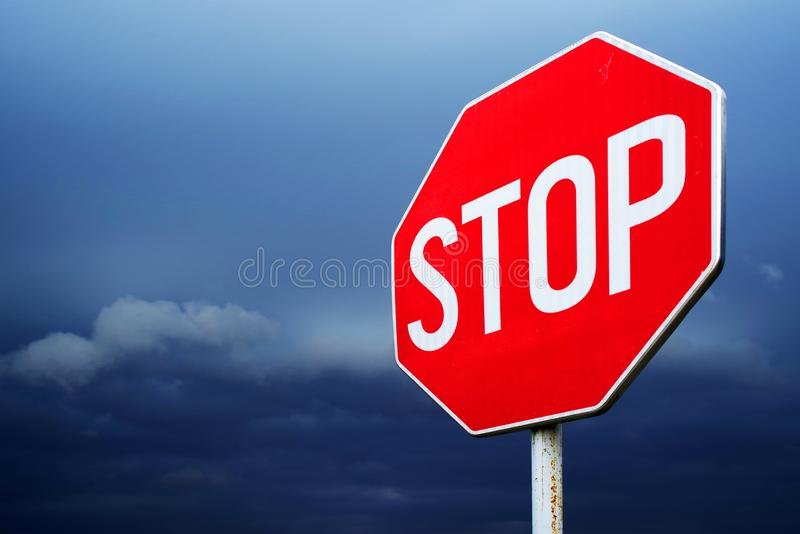stop: (390, 31, 727, 436), (396, 28, 727, 356), (394, 116, 725, 433), (394, 35, 611, 435)
